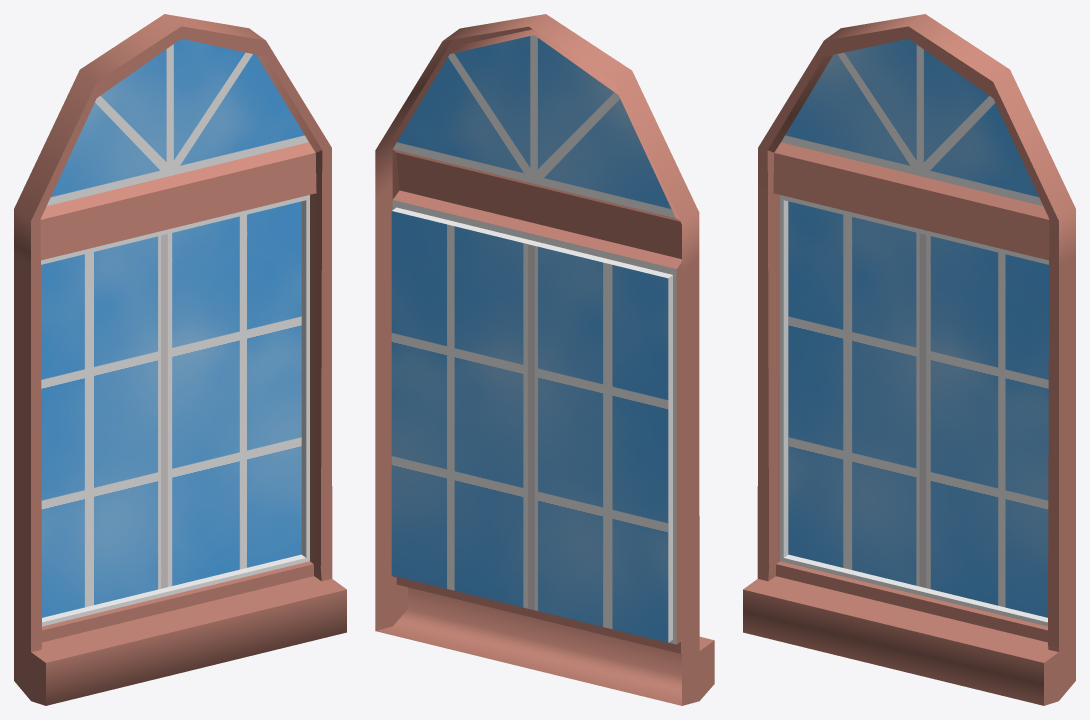
The model's file is window.fbx.
The picture shows the model from 3 angles, left to right: view 1: azimuth 30°, elevation 25°; view 2: azimuth 150°, elevation 25°; view 3: azimuth 330°, elevation 25°; orthographic projection.
Visible parts, largest first — view 1: window; view 2: window; view 3: window.
Boxes of the visible parts, x1=… form: window: x1=14, y1=14, x2=346, y2=705; window: x1=375, y1=14, x2=714, y2=705; window: x1=743, y1=14, x2=1075, y2=705.
Bounding box in the file's own units: 154 × 312 × 28.28.
1 material, 1 textured.
